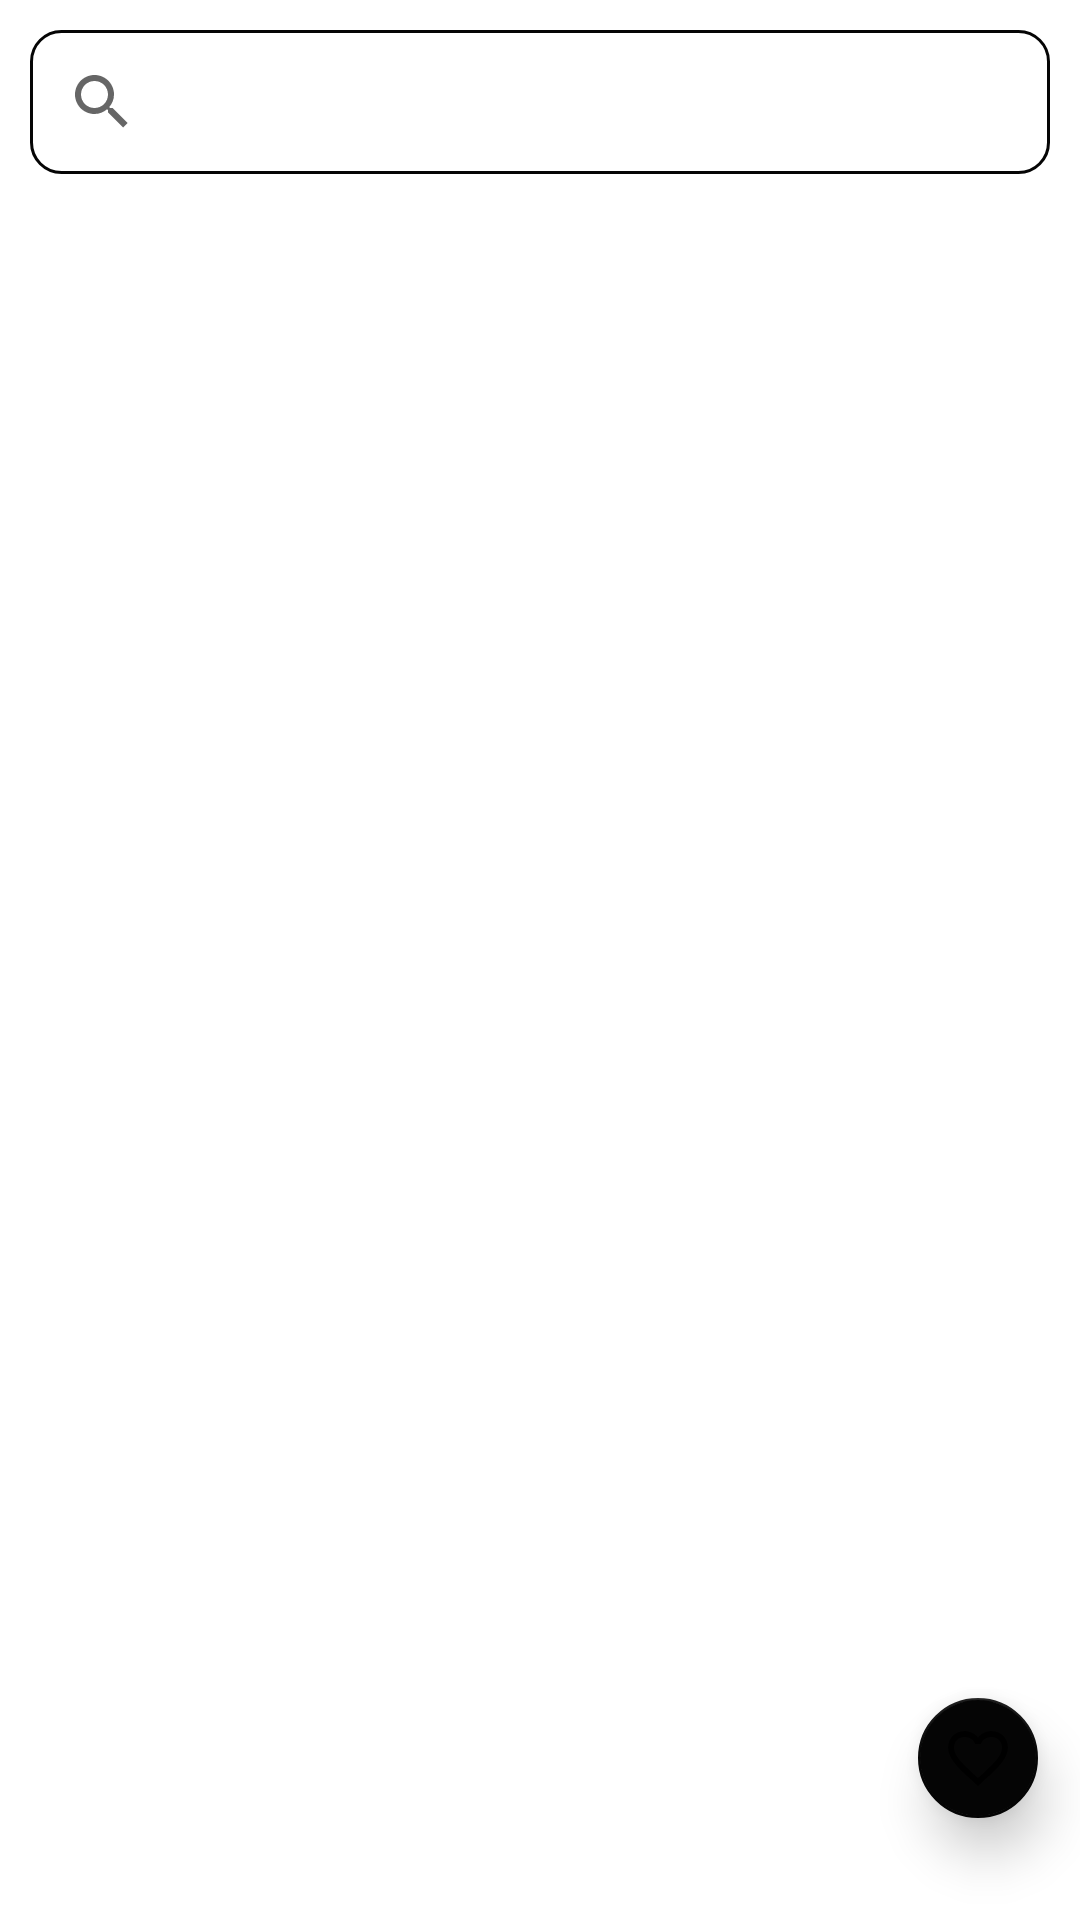

Screen size 1080x1920. Icon name, then its box in pixels as [x1=x1, y1=y1, x2=x2, y2=y2]:
fav: [x1=918, y1=1698, x2=1039, y2=1830]
